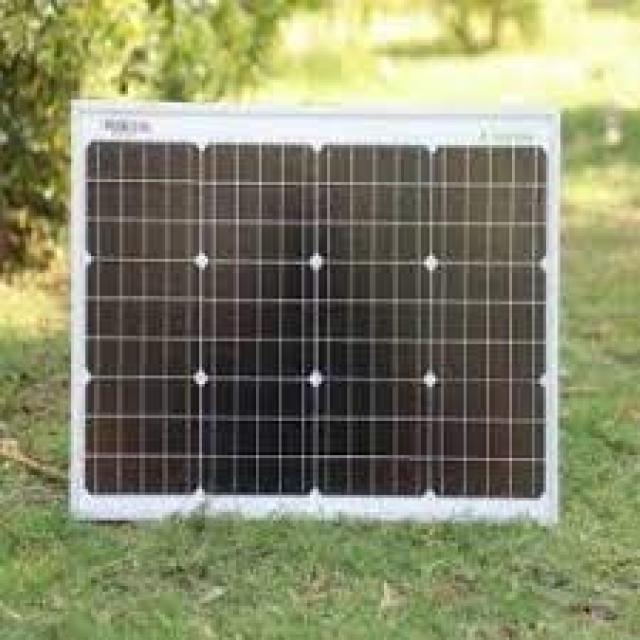no faulty: (75, 104, 558, 518)
